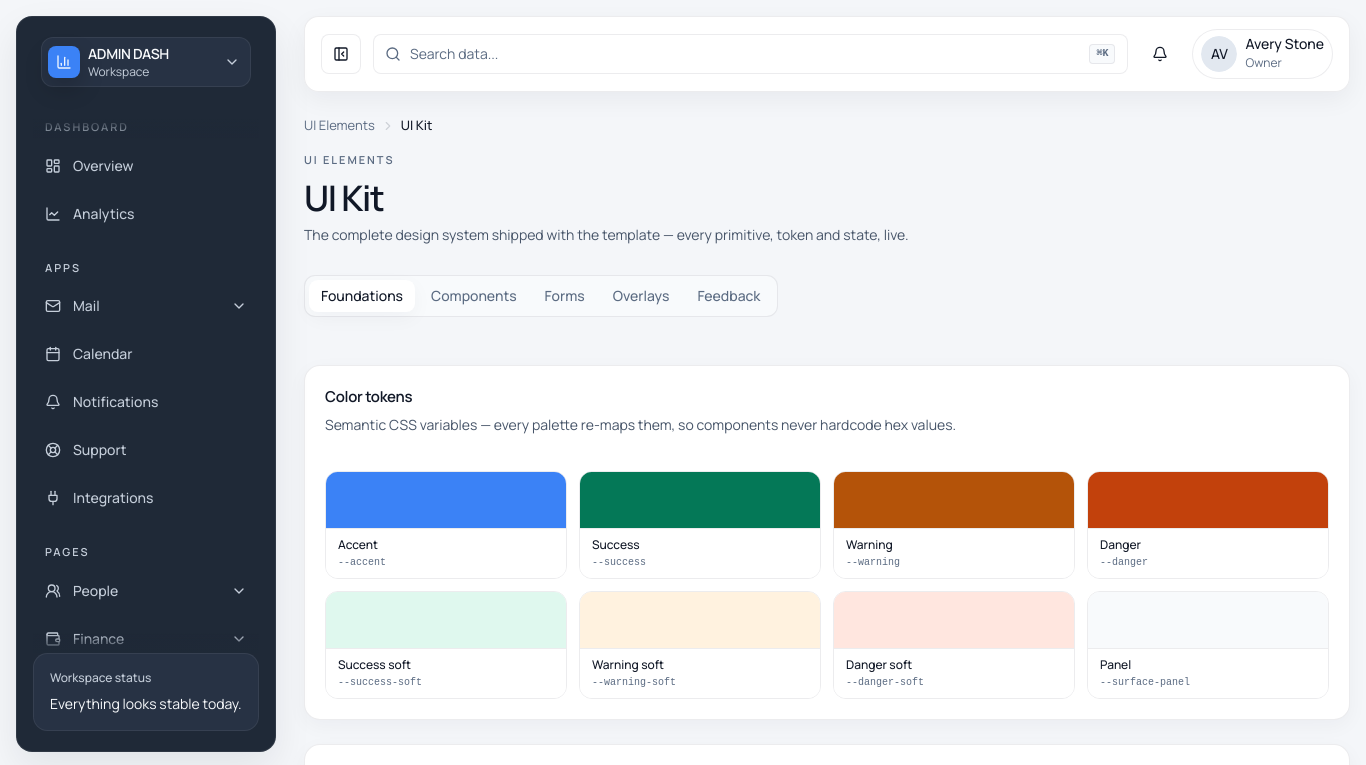
Test: ui kit page › shows the tooltip on hover in the overlays panel
The image size is (1366, 765).
Click the tab "Overlays" at (641, 296), box [601,280,681,312]
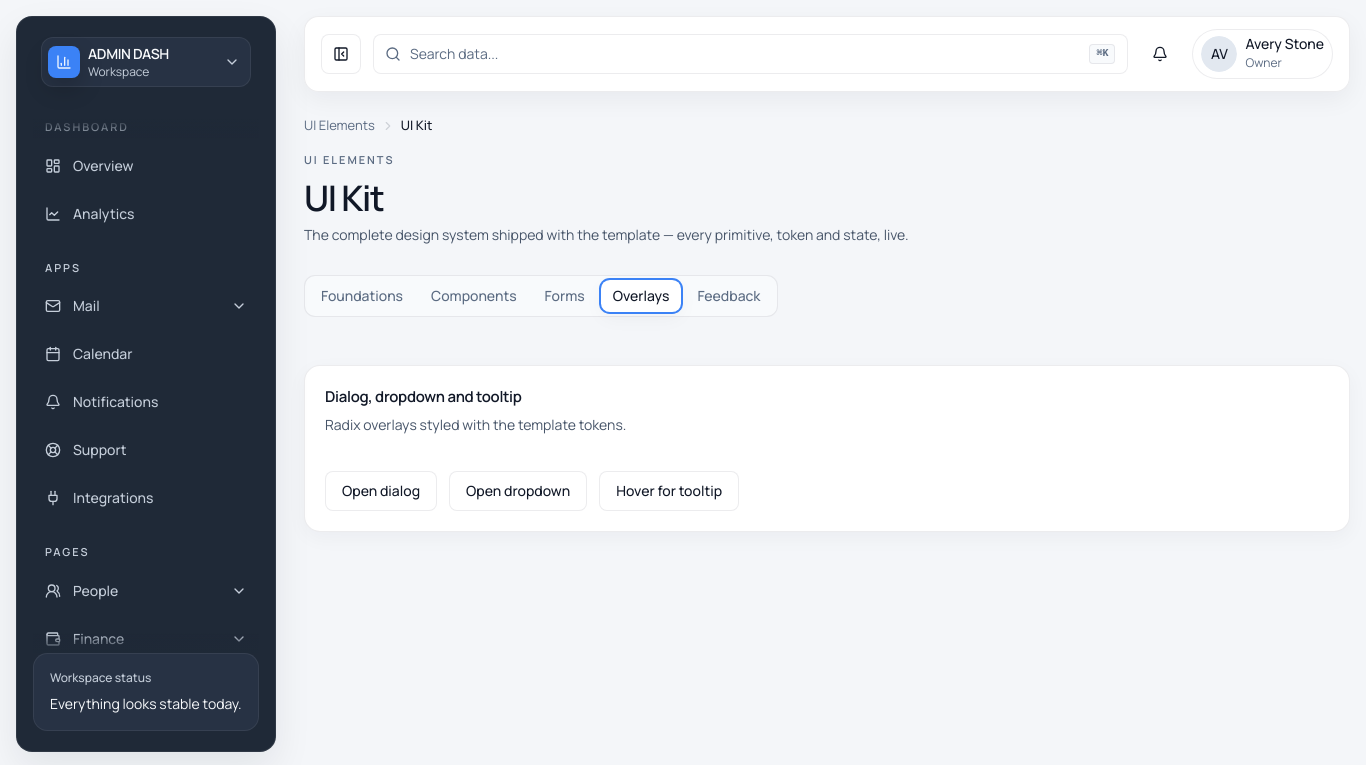
Hover over the button "Hover for tooltip" at (669, 491), box [599,471,739,511]
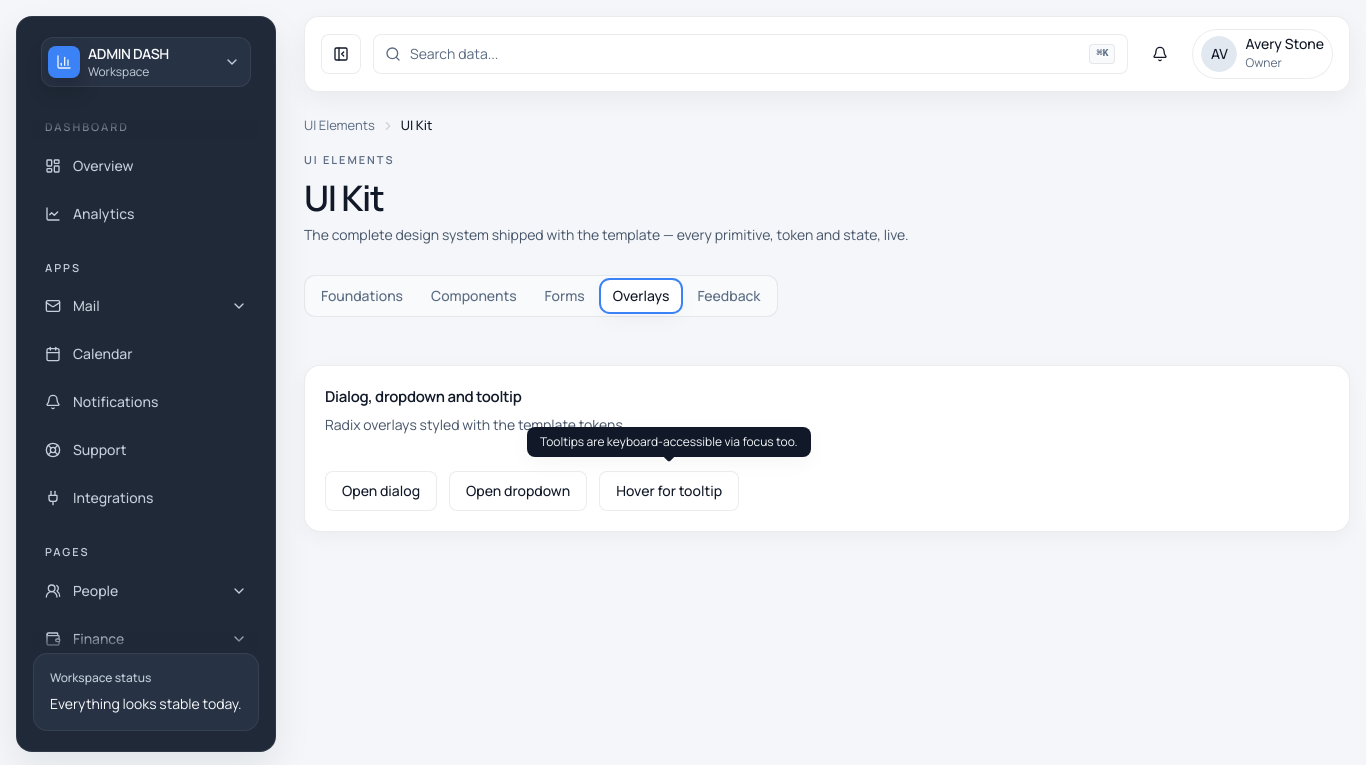
Expected: the tooltip "Tooltips are keyboard-accessible via focus too." is shown, [527,427,811,457]
